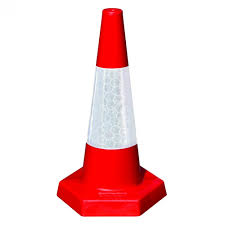cones: (55, 8, 169, 213)
